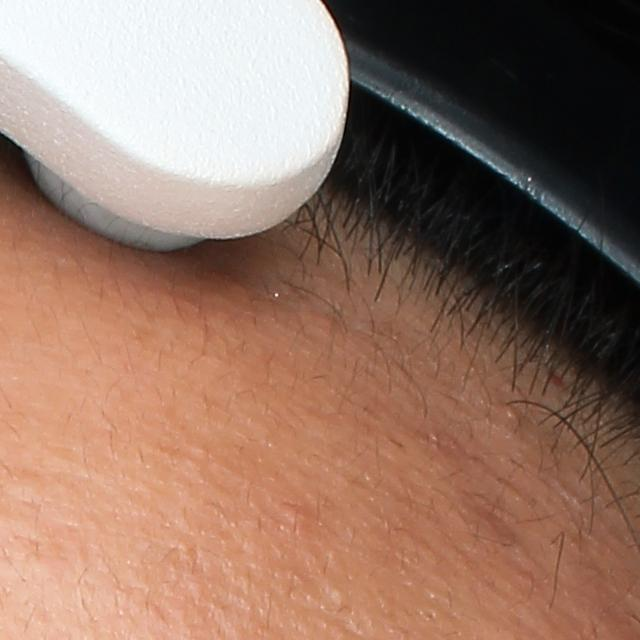comedo: (280, 499, 320, 528), (332, 585, 351, 606)
